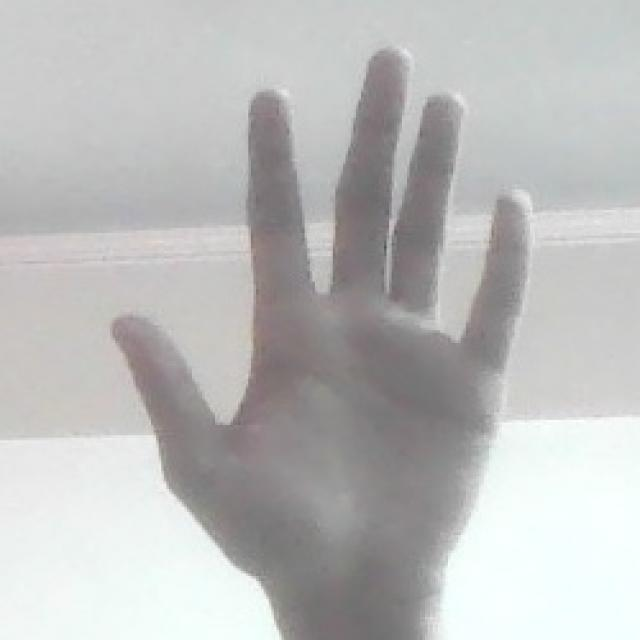Numeric-5: (71, 26, 574, 585)
